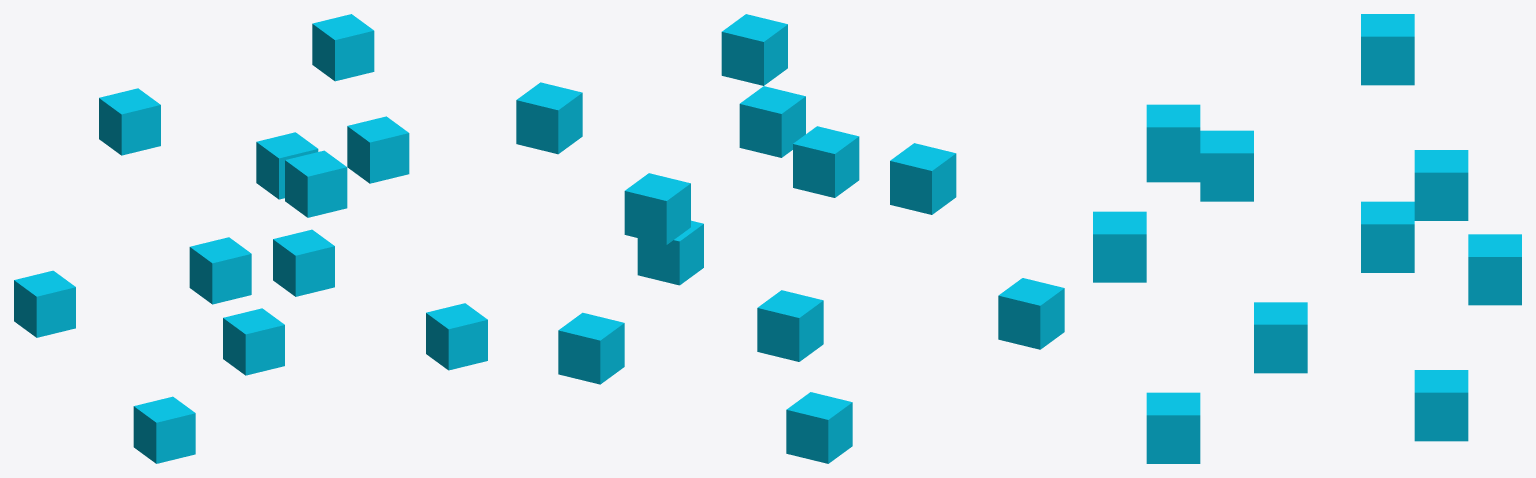
File: water_splash.obj
3 renders of one model, left to right at view 1: azimuth 30°, elevation 25°; view 2: azimuth 150°, elevation 25°; view 3: azimuth 270°, elevation 25°, orthographic. The views are drawn at different scales.
Size of the model in its own units: 0.9 by 0.6 by 0.8.
Materials: 1 (1 with a texture image).
